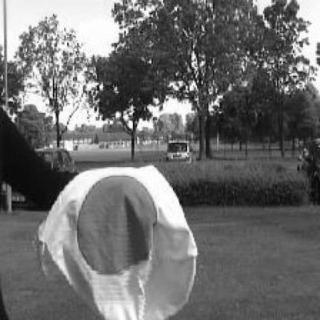other: (62, 173, 166, 289)
